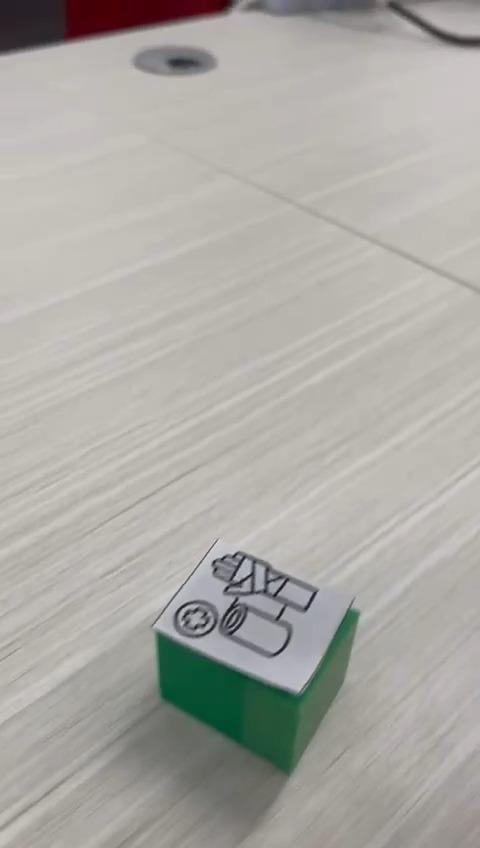Bandages: (151, 537, 362, 774)
